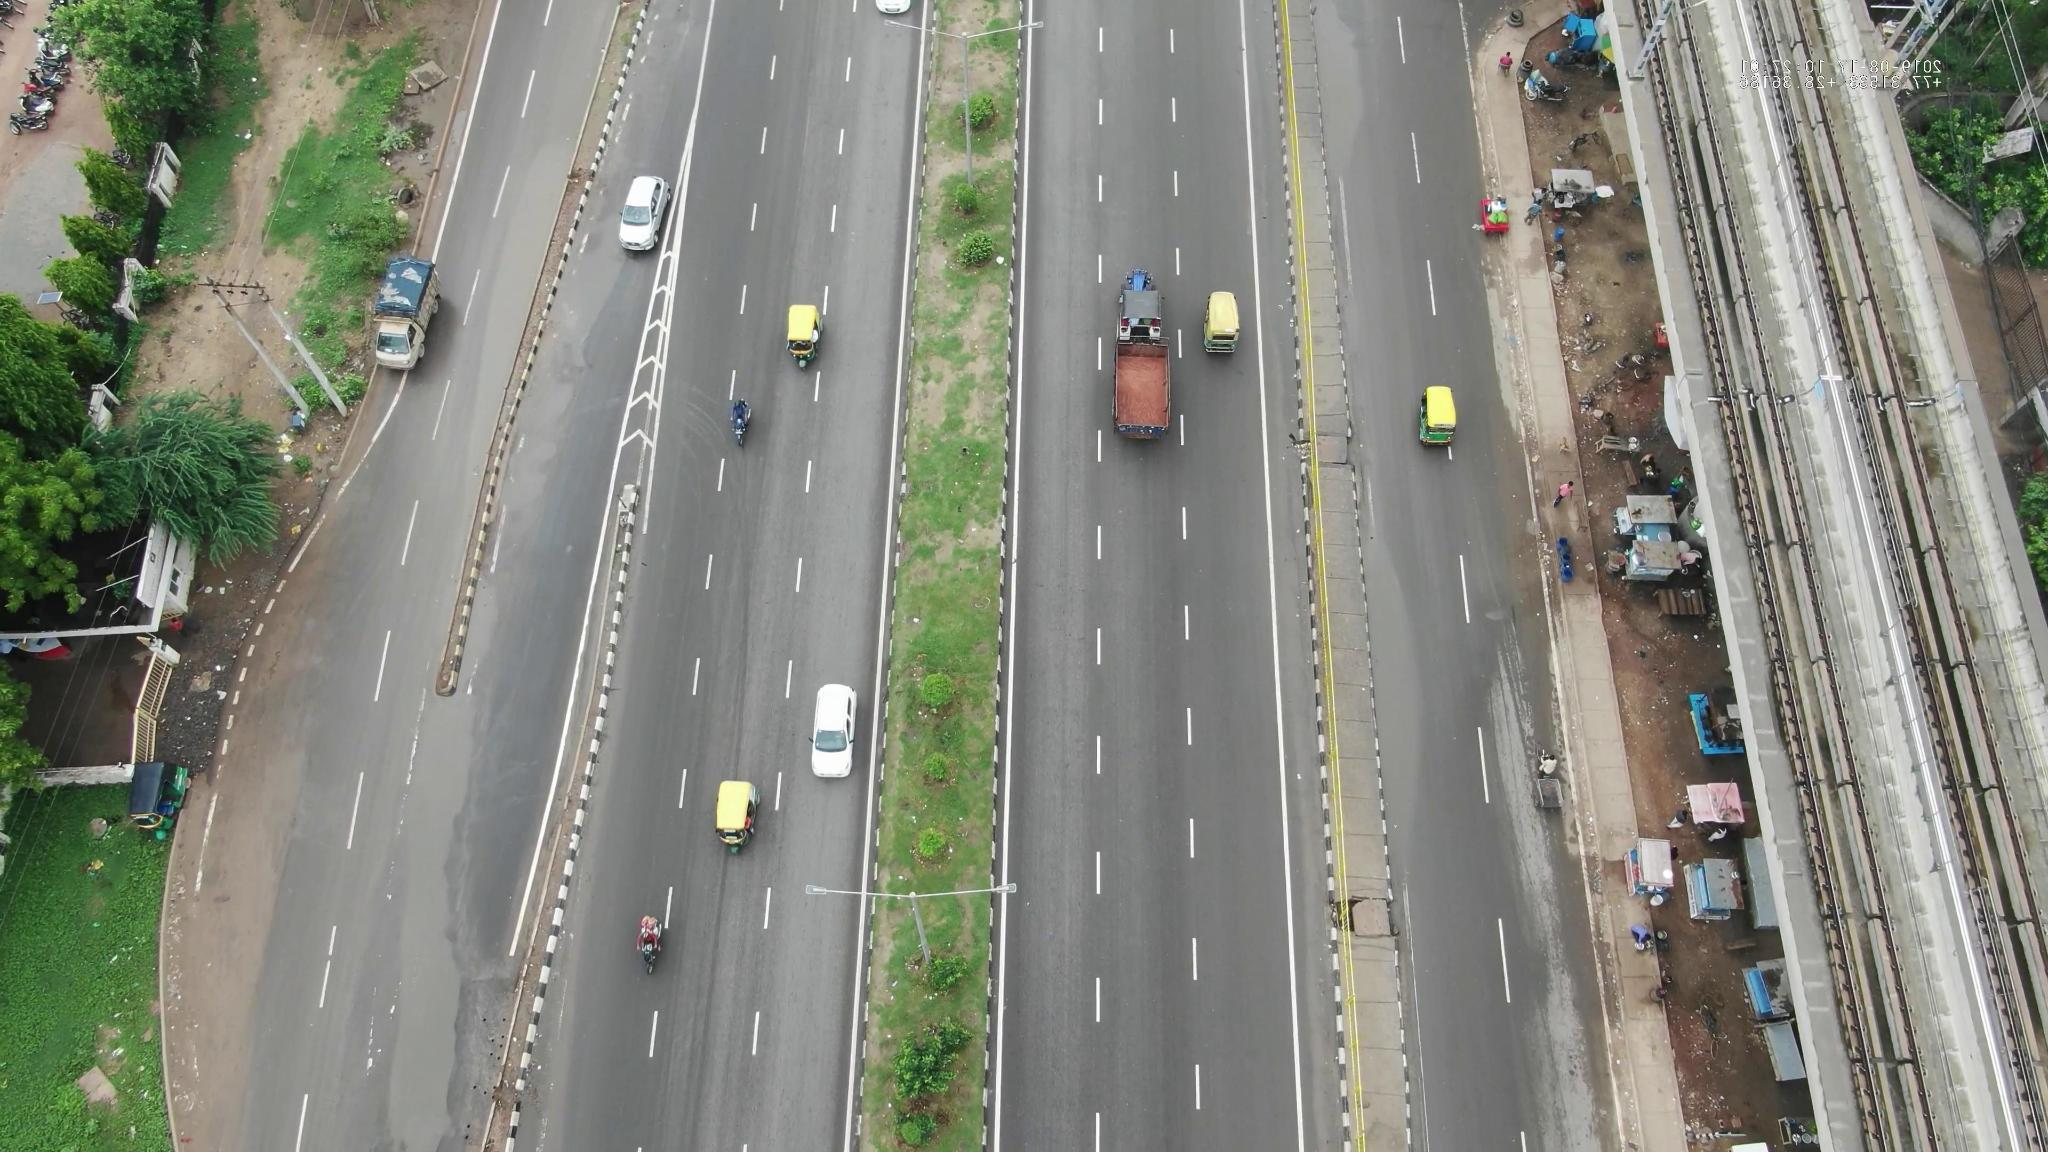Waterlogging: (363, 850, 463, 1145), (471, 259, 585, 505), (1369, 544, 1447, 827), (1326, 1, 1381, 186)
